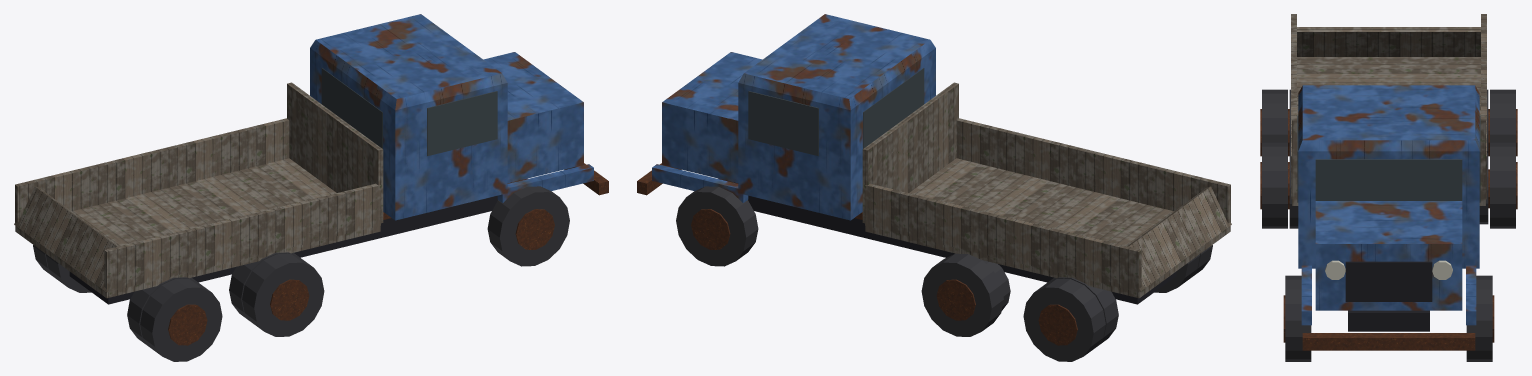
File: car_truck_blue.glb
3 views of the same model, side by side, from view 1: azimuth 30°, elevation 25°; view 2: azimuth 150°, elevation 25°; view 3: azimuth 270°, elevation 25° (orthographic). The views are drawn at different scales.
Parts seen in each view (by area): view 1: car_truck_blue; view 2: car_truck_blue; view 3: car_truck_blue.
Part boxes in pixels (x1,y1,x2,y2): car_truck_blue: [14, 14, 608, 361]; car_truck_blue: [637, 14, 1231, 361]; car_truck_blue: [1260, 14, 1517, 361].
Size of the model in its own units: 7.24 by 2.62 by 2.98.
7 materials, 3 textured.
